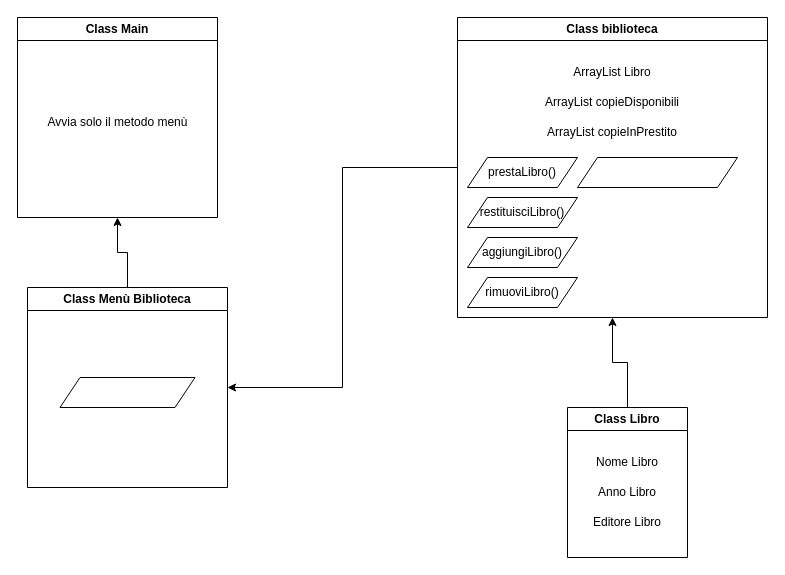
This 785x575 diagram has some shape labels left out. Here are the shapes that lost their labels. From the top down, the centre of each, then its label:
At point 657,172: "stampaLibriDisponibili".
At point 127,392: "menù()".
